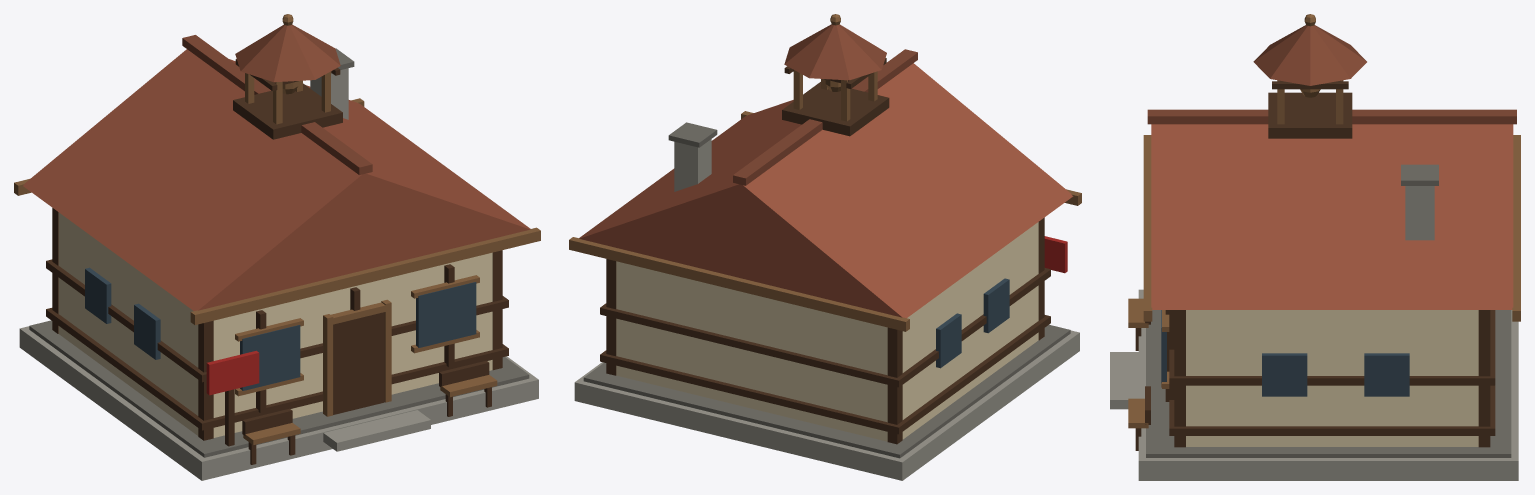
The model's file is school.glb.
The picture shows the model from 3 angles, left to right: view 1: azimuth 30°, elevation 25°; view 2: azimuth 150°, elevation 25°; view 3: azimuth 270°, elevation 25°; orthographic projection. The views are drawn at different scales.
Visible parts, largest first — view 1: school; view 2: school; view 3: school.
Part boxes in pixels (x1,y1,x2,y2): school: (14,14,540,480); school: (569,14,1081,480); school: (1110,14,1520,480).
Bounding box in the file's own units: 5.7 × 5.75 × 5.62.
